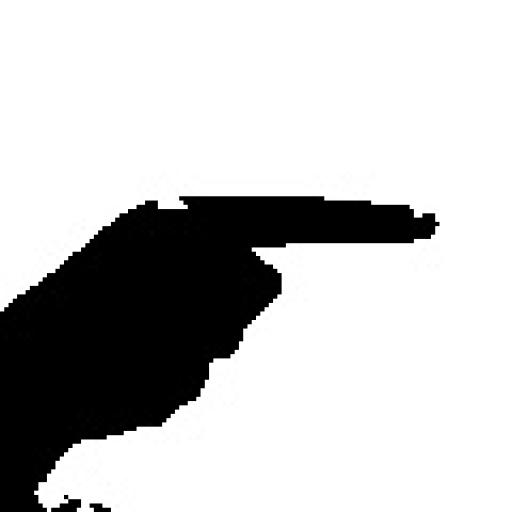index_right: (0, 192, 435, 401)
